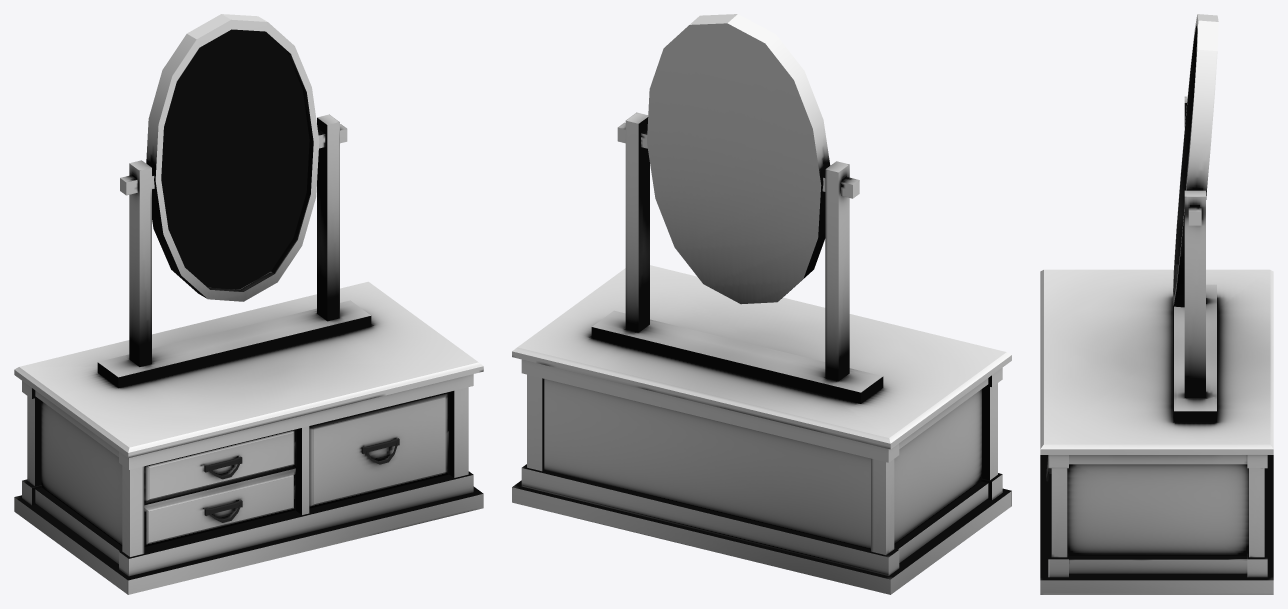
The model's file is Dresser01.fbx.
3 views of the same model, side by side, from view 1: azimuth 30°, elevation 25°; view 2: azimuth 150°, elevation 25°; view 3: azimuth 270°, elevation 25° (orthographic). The views are drawn at different scales.
Visible parts, largest first — view 1: Dresser01; view 2: Dresser01; view 3: Dresser01.
Boxes of the visible parts, x1,y1,x2,y2 form: Dresser01: (14, 14, 483, 594); Dresser01: (512, 14, 1011, 594); Dresser01: (1040, 14, 1273, 594).
Size of the model in its own units: 103 by 131 by 57.13.
